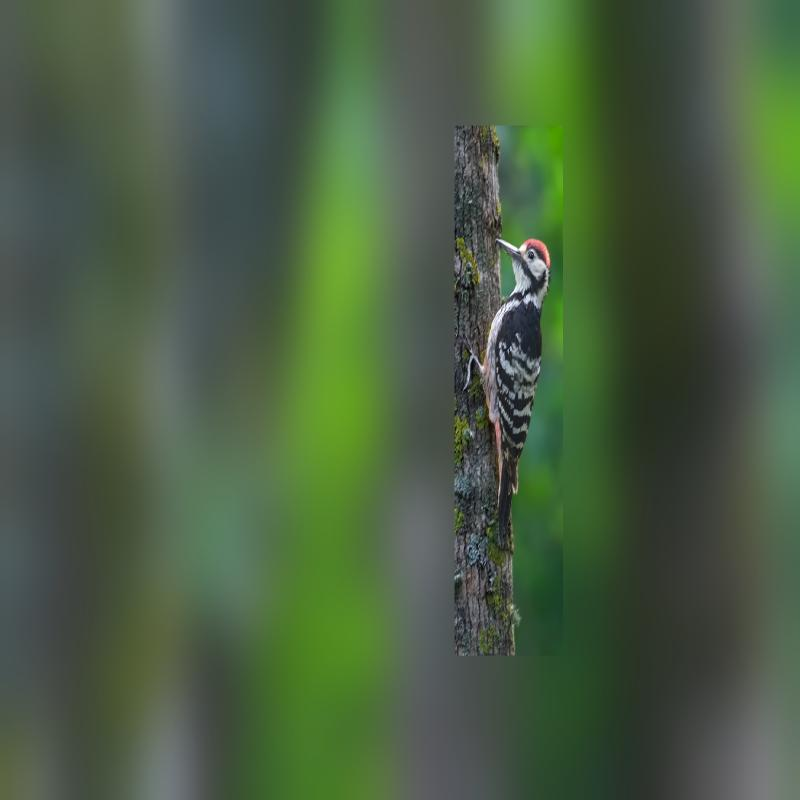white-backed woodpecker: (461, 216, 566, 532)
